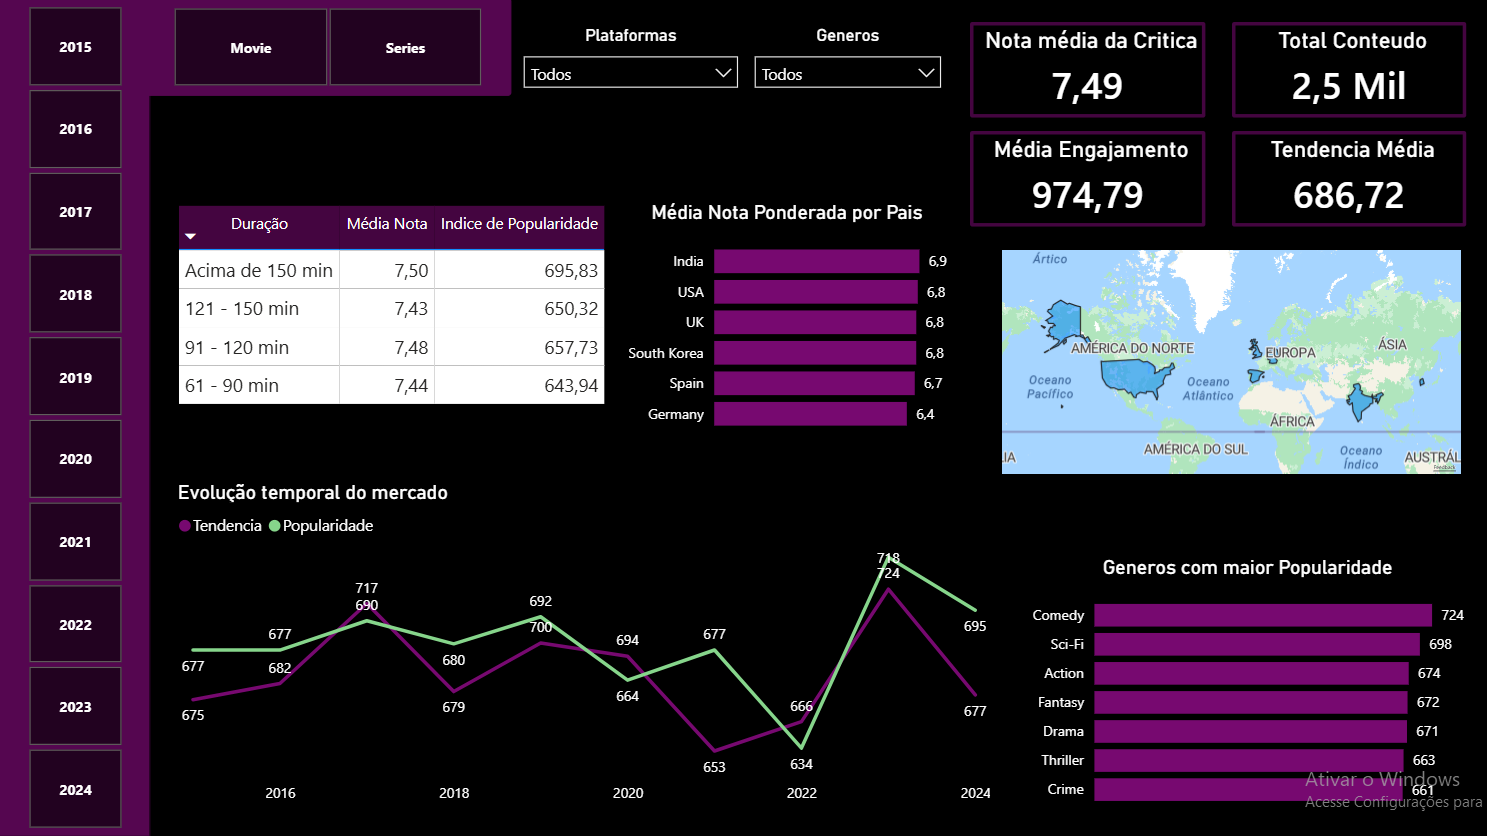

This screenshot's page, from the dashboard's own definition file:
{"tool":"powerbi","page":{"name":"Página 1","canvas":[1280,720],"ordinal":0},"visuals":[{"type":"slicer","title":"Plataformas","fields":{"Values":["streaming.platform"]},"box":[440.7,23.9,203.9,74.5],"z":0},{"type":"slicer","title":"Generos","fields":{"Values":["streaming.genre"]},"box":[639.3,23.9,180,69.2],"z":1000},{"type":"slicer","title":"Plataformas","fields":{"Values":["streaming.release_year"]},"box":[0,0,131.2,720],"z":2000},{"type":"cardVisual","title":"Total Conteudo","fields":{"Data":["CountNonNull(streaming.title)"]},"box":[1059.2,20.4,201.3,81.7],"z":3000},{"type":"cardVisual","title":"Nota média da Critica","fields":{"Data":["Avg(streaming.rating)"]},"box":[834.5,20.4,202.3,81.7],"z":4000},{"type":"cardVisual","title":"Média Engajamento","fields":{"Data":["Avg(streaming.engagement_score)"]},"box":[834.5,113.8,202.3,81.7],"z":5000},{"type":"cardVisual","title":"Tendencia Média","fields":{"Data":["Avg(streaming.trending_score)"]},"box":[1059.2,113.8,201.3,81.7],"z":6000},{"type":"barChart","title":"Média Nota Ponderada por Pais","fields":{"Category":["streaming.country"],"Y":["Avg(streaming.weighted_rating)"]},"box":[535.1,173.6,285,204.7],"z":7000},{"type":"barChart","title":"Generos com maior Popularidade","fields":{"Category":["streaming.genre"],"Y":["Avg(streaming.popularity_score)"]},"box":[883.6,478.1,377,221.5],"z":8000},{"type":"lineChart","title":"Evolução temporal do mercado","fields":{"Category":["streaming.release_year"],"Y":["Avg(streaming.trending_score)"],"Y2":["Avg(streaming.popularity_score)"]},"box":[149,413.3,707.4,287.6],"z":9000},{"type":"tableEx","fields":{"Values":["streaming.Faixa Duração","Avg(streaming.rating)","Avg(streaming.popularity_score)"]},"box":[149,173.6,378.3,186.6],"z":10000},{"type":"slicer","title":"Plataformas","fields":{"Values":["streaming.type"]},"box":[123.3,0,317.4,84.2],"z":11000},{"type":"azureMap","fields":{"Category":["streaming.country"]},"box":[856.4,211.2,404.2,202.1],"z":12000}]}

Visuals, with their boxes in screenshot pixels (x1, y1, x2, y2), scaled from the page's 1280x720 canvas onto the 1487x836 screenshot:
"Plataformas" slicer: BBox(512, 28, 749, 114)
"Generos" slicer: BBox(743, 28, 952, 108)
"Plataformas" slicer: BBox(0, 0, 152, 835)
"Total Conteudo" cardVisual: BBox(1230, 24, 1464, 119)
"Nota média da Critica" cardVisual: BBox(969, 24, 1204, 119)
"Média Engajamento" cardVisual: BBox(969, 132, 1204, 227)
"Tendencia Média" cardVisual: BBox(1230, 132, 1464, 227)
"Média Nota Ponderada por Pais" barChart: BBox(622, 202, 953, 439)
"Generos com maior Popularidade" barChart: BBox(1026, 555, 1464, 812)
"Evolução temporal do mercado" lineChart: BBox(173, 480, 995, 814)
tableEx - streaming.Faixa Duração x Avg(streaming.rating): BBox(173, 202, 613, 418)
"Plataformas" slicer: BBox(143, 0, 512, 98)
azureMap - streaming.country: BBox(995, 245, 1464, 480)
